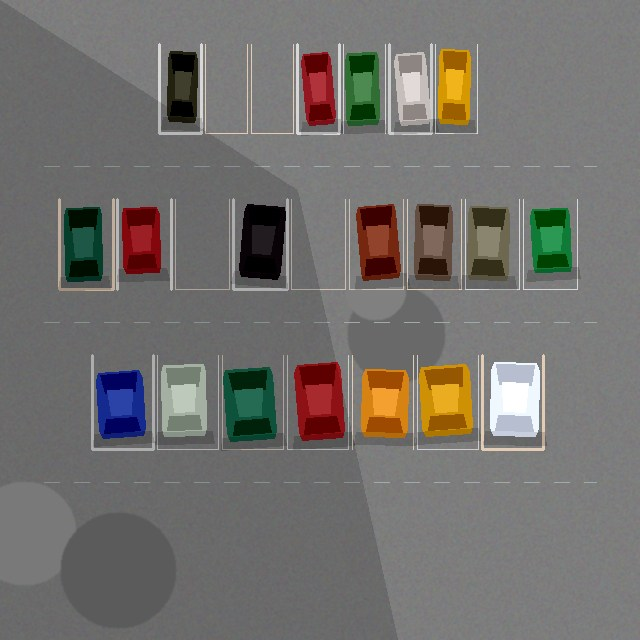space-empty: (175, 199, 229, 289), (291, 199, 345, 289), (205, 44, 247, 133), (251, 44, 293, 133)
space-occupied: (92, 355, 153, 449), (157, 355, 218, 449), (222, 355, 283, 449), (287, 355, 348, 449), (352, 355, 413, 449), (417, 355, 478, 449), (482, 355, 543, 449), (59, 199, 113, 289), (117, 199, 171, 289), (233, 199, 287, 289), (349, 199, 403, 289), (407, 199, 461, 289), (465, 199, 519, 289), (523, 199, 577, 289), (159, 44, 201, 133), (297, 44, 339, 133), (343, 44, 385, 133), (389, 44, 431, 133), (435, 44, 477, 133)
